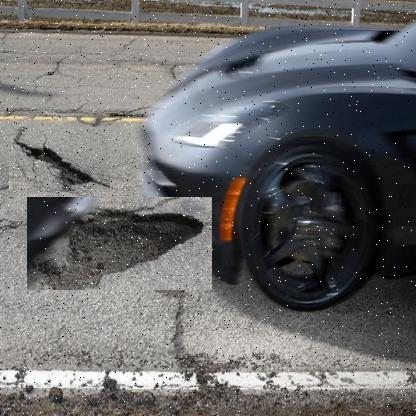pothole: (26, 197, 212, 291), (8, 127, 110, 193)
